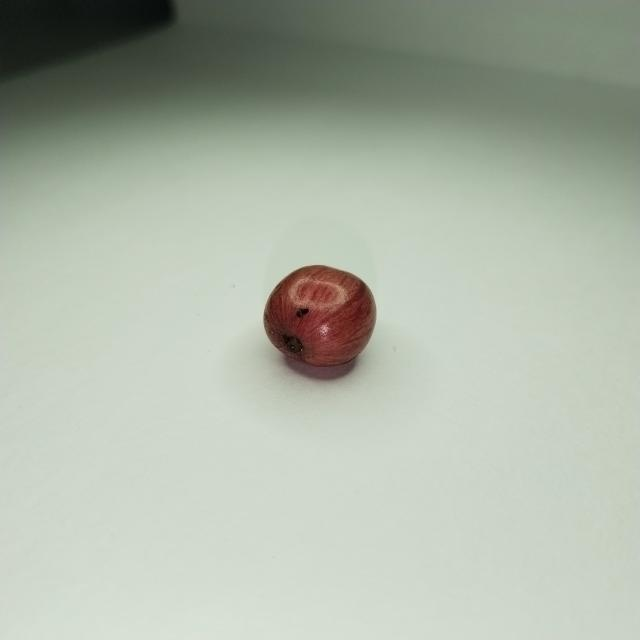Infectado: (263, 265, 377, 367)
